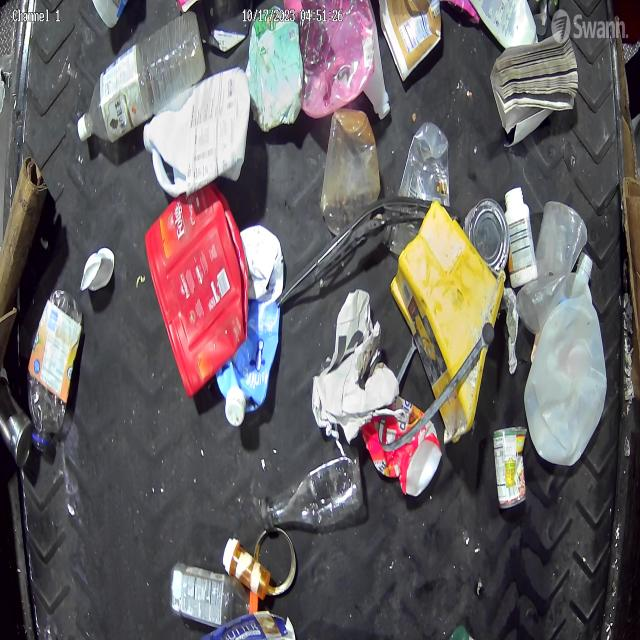can: (466, 199, 507, 271), (493, 424, 527, 509)
milk_jug: (524, 296, 606, 469)
non_white_jug: (143, 184, 251, 402), (215, 223, 285, 426)
plastic_bottle: (76, 10, 206, 144), (26, 291, 83, 453), (260, 448, 364, 532), (170, 566, 260, 626)
